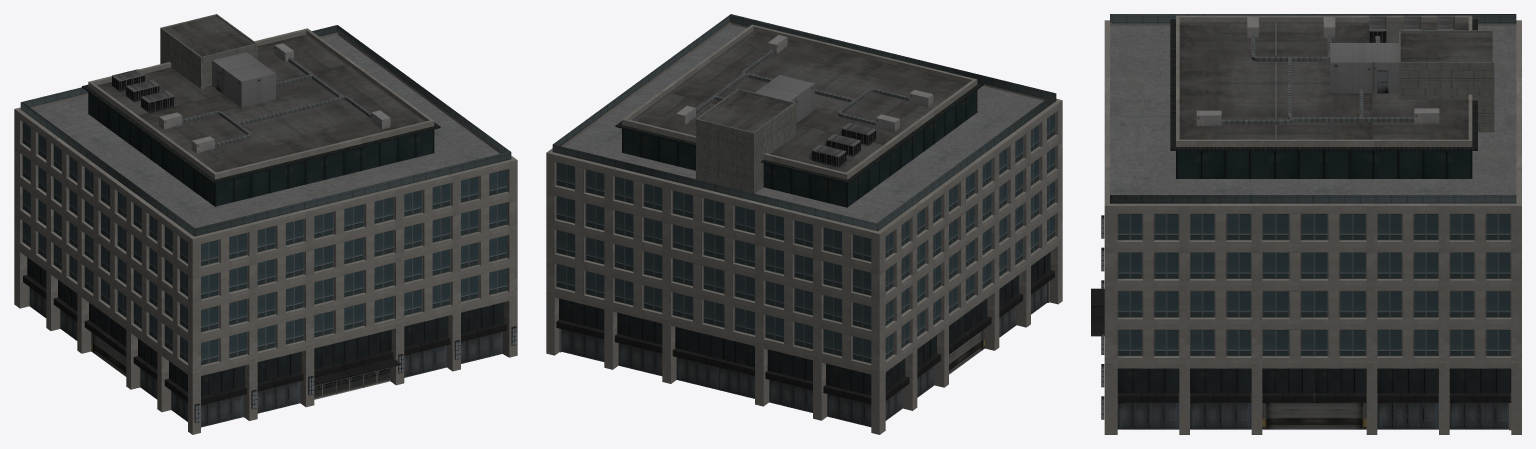
Rendered from office5.glb.
The picture shows the model from 3 angles, left to right: view 1: azimuth 30°, elevation 25°; view 2: azimuth 150°, elevation 25°; view 3: azimuth 270°, elevation 25°; orthographic projection. The views are drawn at different scales.
Visible parts, largest first — view 1: AIT01W2W3_AIT01W2W3_0; view 2: AIT01W2W3_AIT01W2W3_0; view 3: AIT01W2W3_AIT01W2W3_0.
Part boxes in pixels (x1=…): AIT01W2W3_AIT01W2W3_0: x1=14, y1=14, x2=517, y2=434; AIT01W2W3_AIT01W2W3_0: x1=546, y1=14, x2=1062, y2=434; AIT01W2W3_AIT01W2W3_0: x1=1091, y1=14, x2=1521, y2=434.
Bounding box in the file's own units: 3200 × 2376 × 3137.
Materials: 1 (1 with a texture image).
